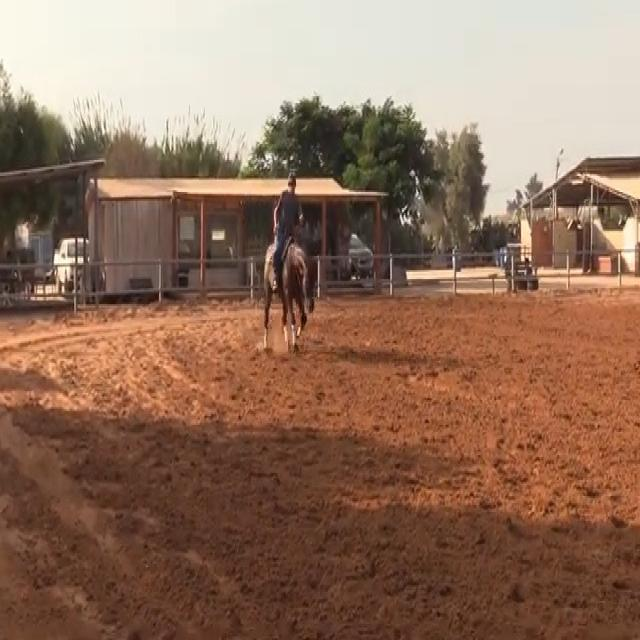horse: (260, 234, 311, 354)
